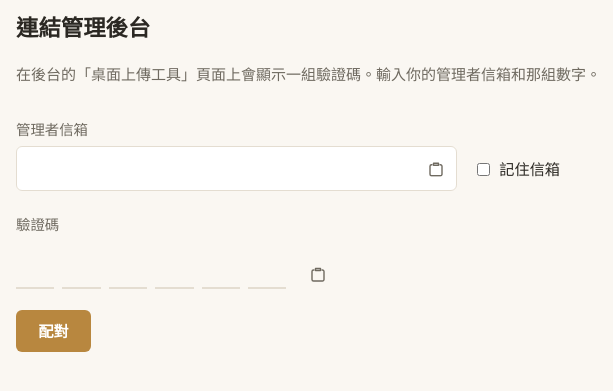
Test: a refused code marks the code, not the address
Type "owner@example.com" into the field labelled "管理者信箱" at (236, 169), box 16,146 -> 457,192
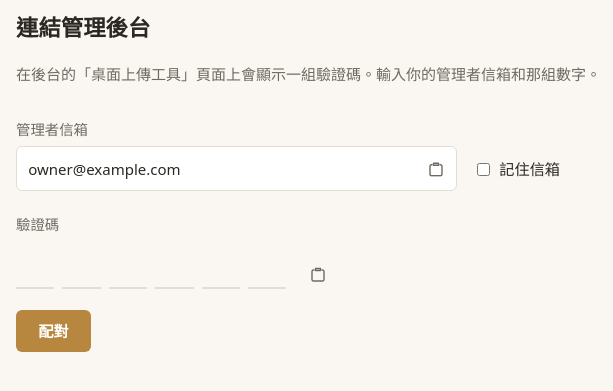
Type "41" into the 1st field with class "code-slot" at (35, 265), box 16,242 -> 54,289
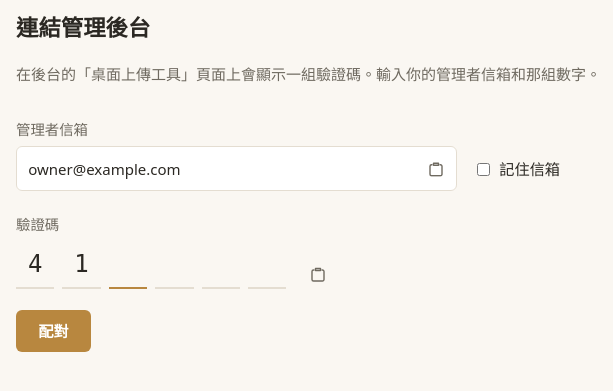
Submit the form, box 16,118 -> 560,352
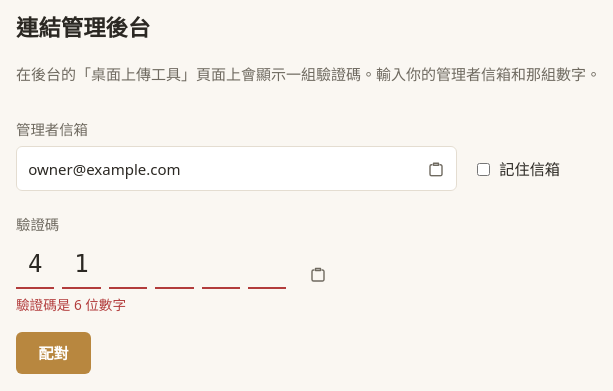
Expected: the element with class "code-slots" is shown, 16,242 -> 286,289
Now the element with class "is-error" shows "驗證碼是 6 位數字", box 16,295 -> 126,314
